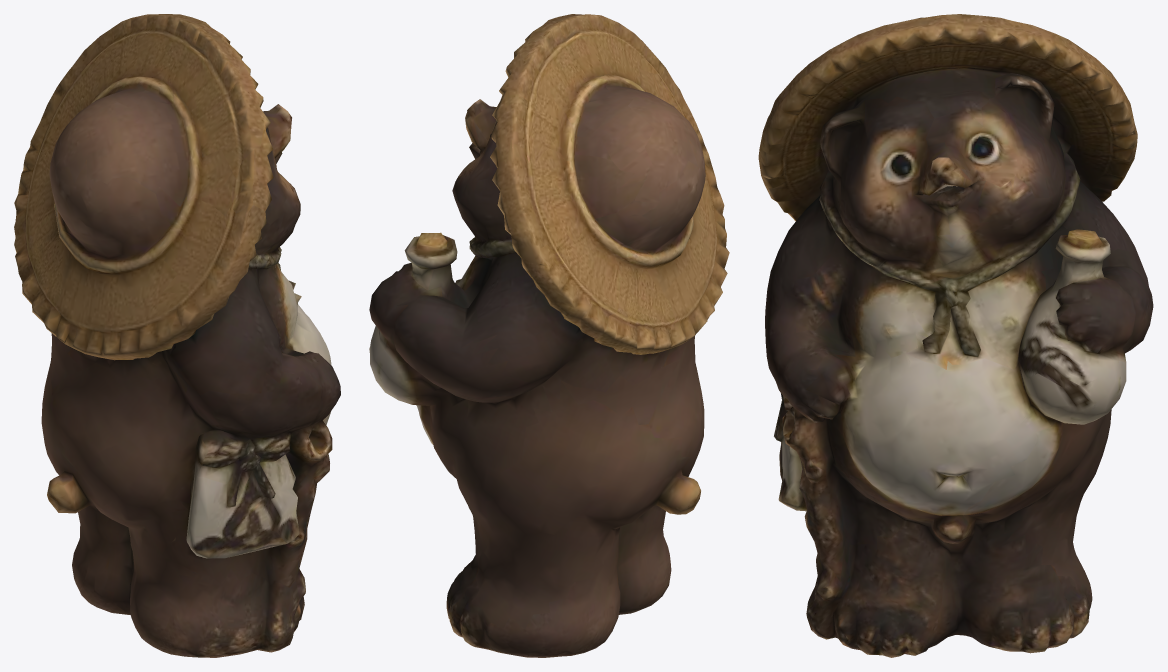
The model's file is tanuki.glb.
The picture shows the model from 3 angles, left to right: view 1: azimuth 30°, elevation 25°; view 2: azimuth 150°, elevation 25°; view 3: azimuth 270°, elevation 25°; orthographic projection. The views are drawn at different scales.
Parts seen in each view (by area): view 1: tripo_node_cdeaa432-6bf3-47cf-9dc4-d457094aa8f8; view 2: tripo_node_cdeaa432-6bf3-47cf-9dc4-d457094aa8f8; view 3: tripo_node_cdeaa432-6bf3-47cf-9dc4-d457094aa8f8.
Boxes of the visible parts, box(x1,y1,x2,y2) form: tripo_node_cdeaa432-6bf3-47cf-9dc4-d457094aa8f8: box(14, 14, 340, 657); tripo_node_cdeaa432-6bf3-47cf-9dc4-d457094aa8f8: box(369, 14, 729, 657); tripo_node_cdeaa432-6bf3-47cf-9dc4-d457094aa8f8: box(758, 14, 1153, 657).
Size of the model in its own units: 0.4837 by 1 by 0.5868.
1 material, 1 textured.
